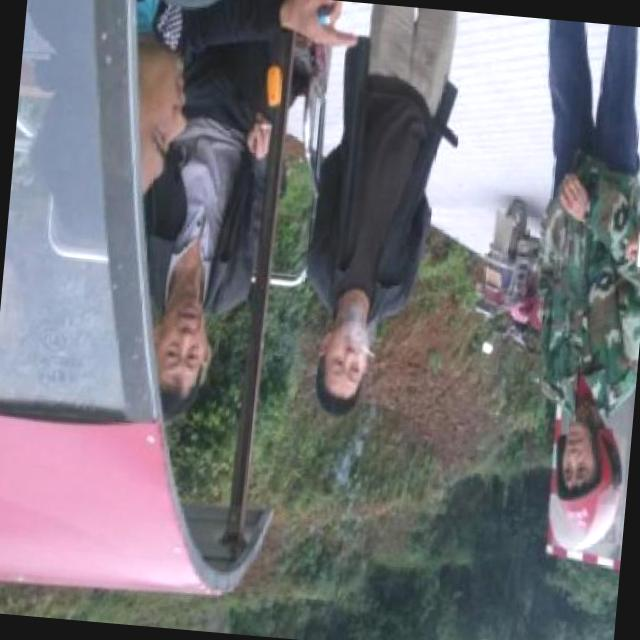smoke: (356, 340, 376, 360)
